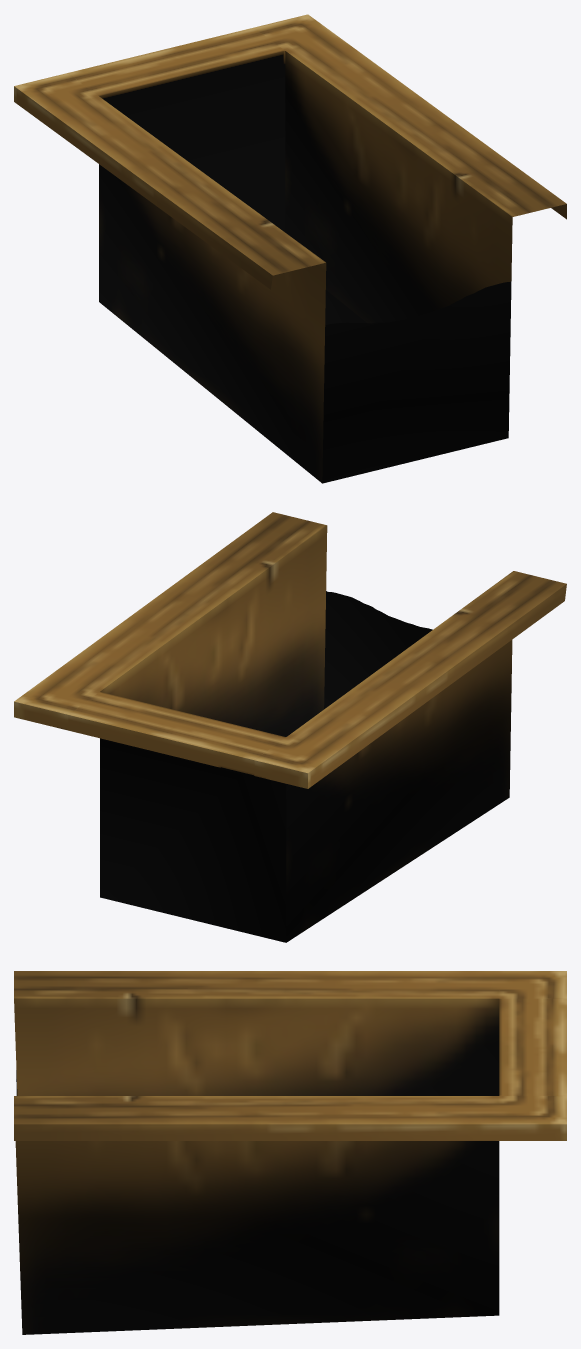
File: props_door_frame.fbx
3 views of the same model, one above another, from view 1: azimuth 30°, elevation 25°; view 2: azimuth 150°, elevation 25°; view 3: azimuth 270°, elevation 25° (orthographic). The views are drawn at different scales.
Visible parts, largest first — view 1: door_frame; view 2: door_frame; view 3: door_frame.
Boxes of the visible parts, bbox=[...] form: door_frame: bbox=[14, 14, 566, 483]; door_frame: bbox=[14, 512, 566, 942]; door_frame: bbox=[14, 971, 566, 1334].
Size of the model in its own units: 1.44 by 1.05 by 2.2.
Materials: 1 (1 with a texture image).
